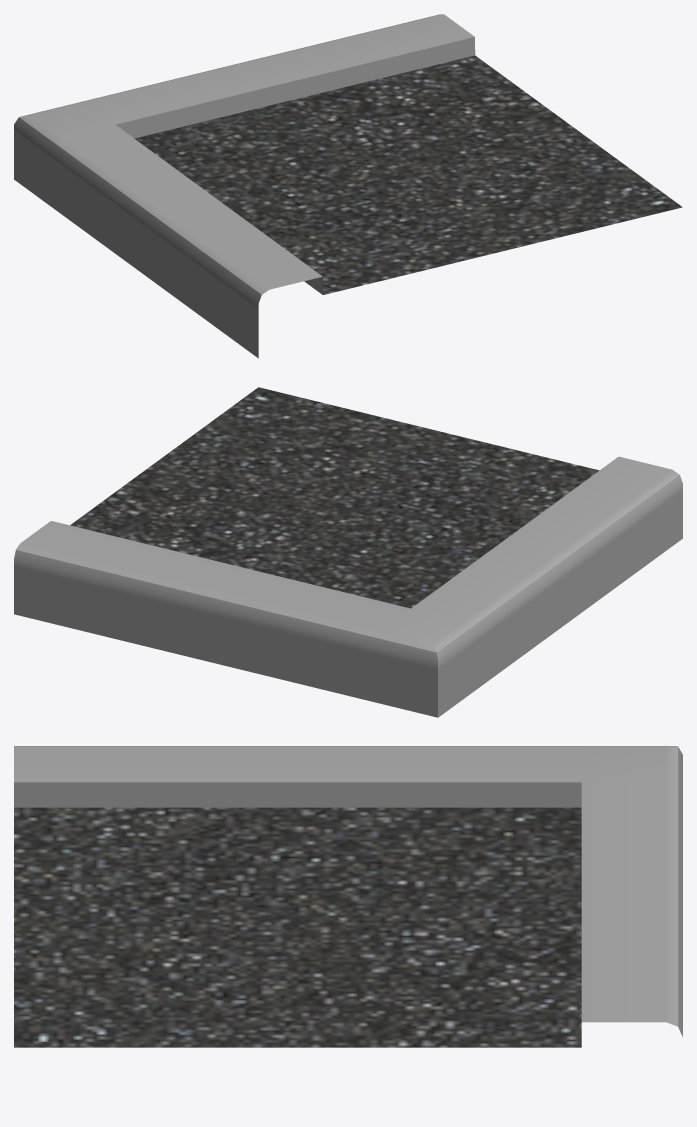
The model's file is hörnTile.fbx.
The picture shows the model from 3 angles, top to bottom: view 1: azimuth 30°, elevation 25°; view 2: azimuth 150°, elevation 25°; view 3: azimuth 270°, elevation 25°; orthographic projection. The views are drawn at different scales.
Visible parts, largest first — view 1: polySurface7; view 2: polySurface7; view 3: polySurface7.
Boxes of the visible parts, bbox=[...] form: polySurface7: bbox=[14, 14, 682, 358]; polySurface7: bbox=[14, 387, 682, 717]; polySurface7: bbox=[14, 746, 682, 1047].
Bounding box in the file's own units: 924 × 138 × 923.
